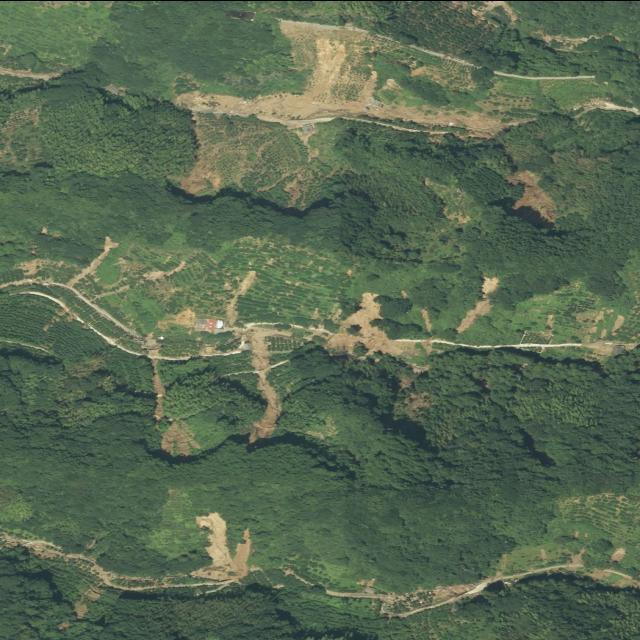landslide: (175, 18, 524, 136), (326, 291, 423, 356), (191, 512, 251, 581)
